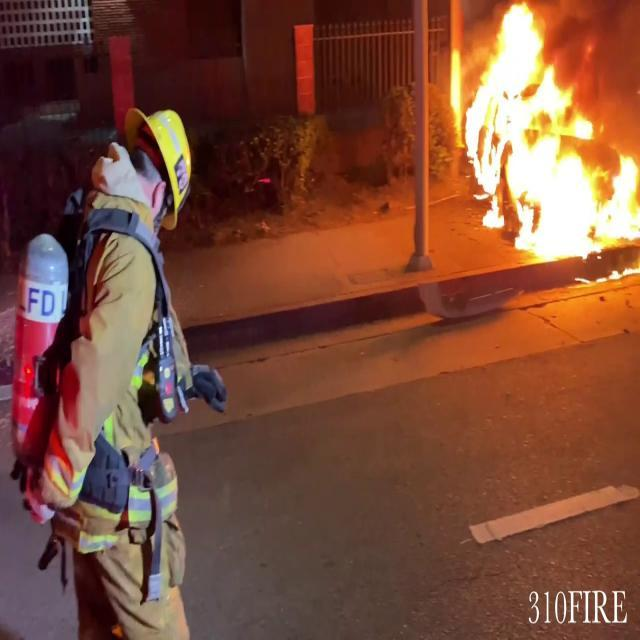Fire: (445, 1, 640, 259)
